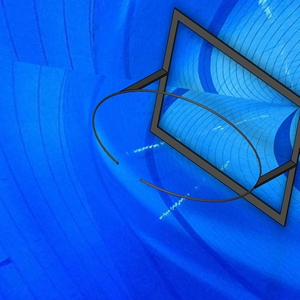circle: (91, 8, 298, 229)
